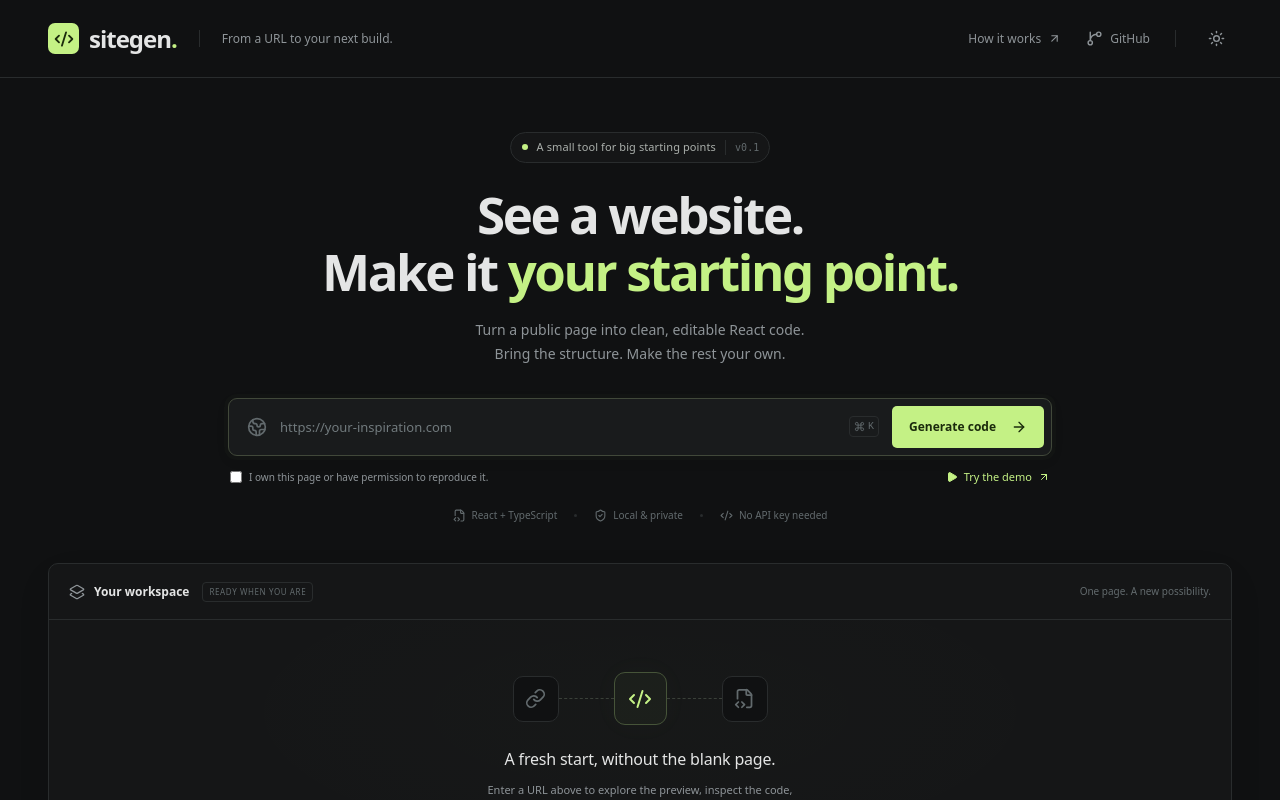
Scenario: important frontend interactions › validates URL input and permission before making a request
Click the button "Generate code".
click(968, 427)  # box 892,406 -> 1044,448
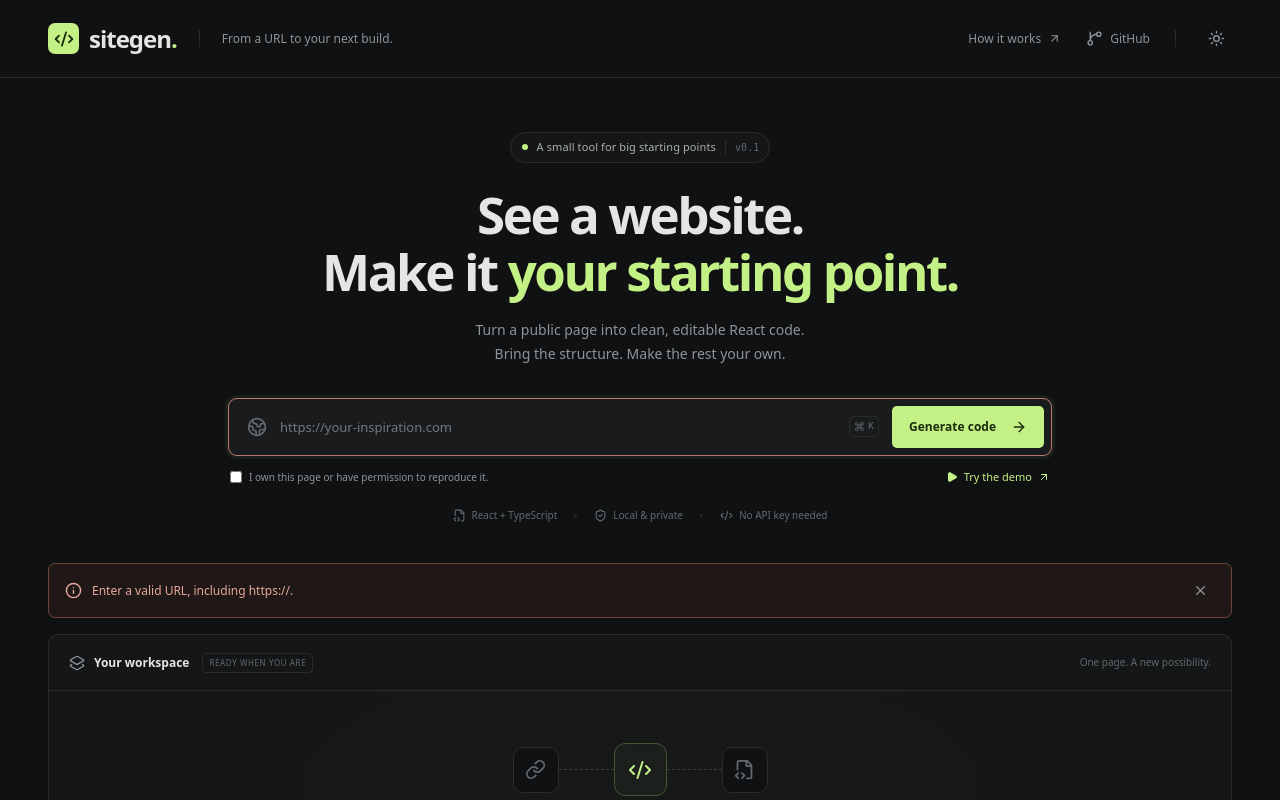
Check: the message shows "valid URL", box 92,582 -> 293,599
Type "https://example.com" into the field named "Website URL".
click(558, 427); type("https://example.com")  # box 280,409 -> 836,444
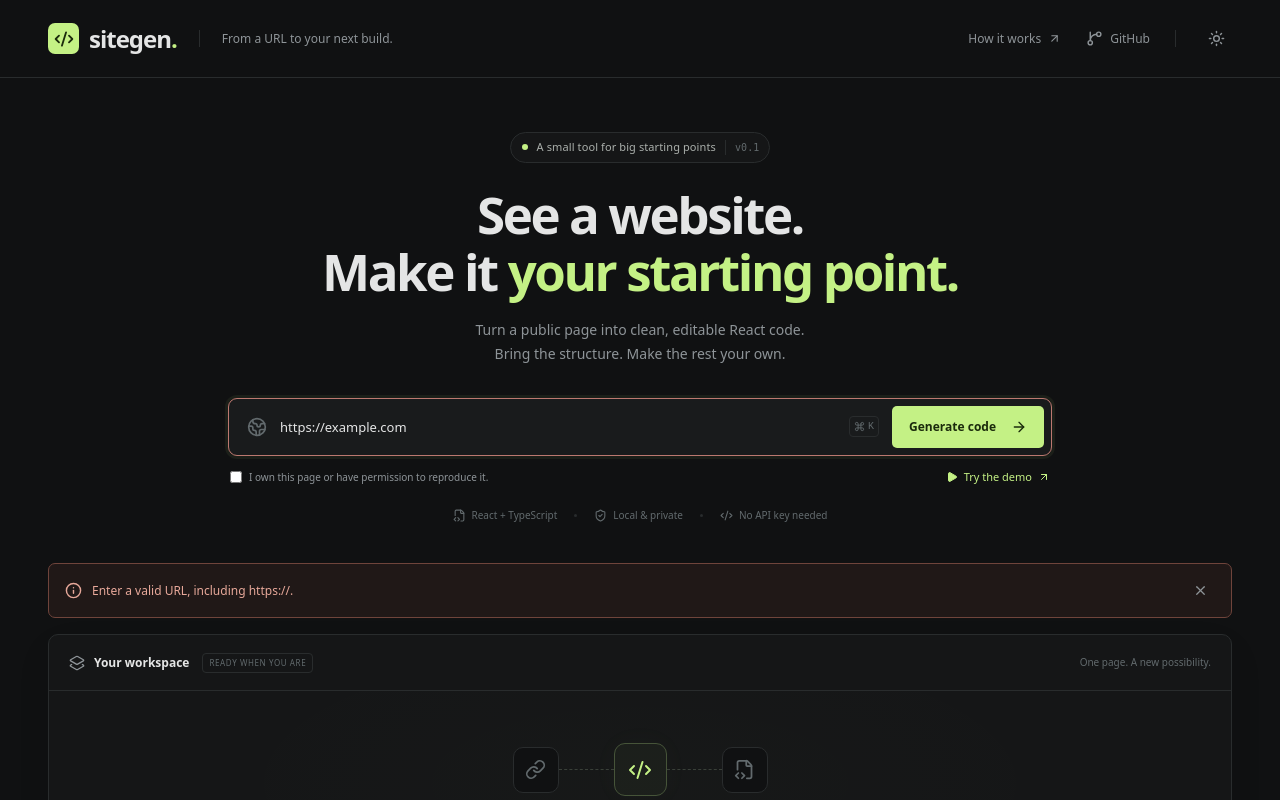
Click the button "Generate code".
click(968, 427)  # box 892,406 -> 1044,448
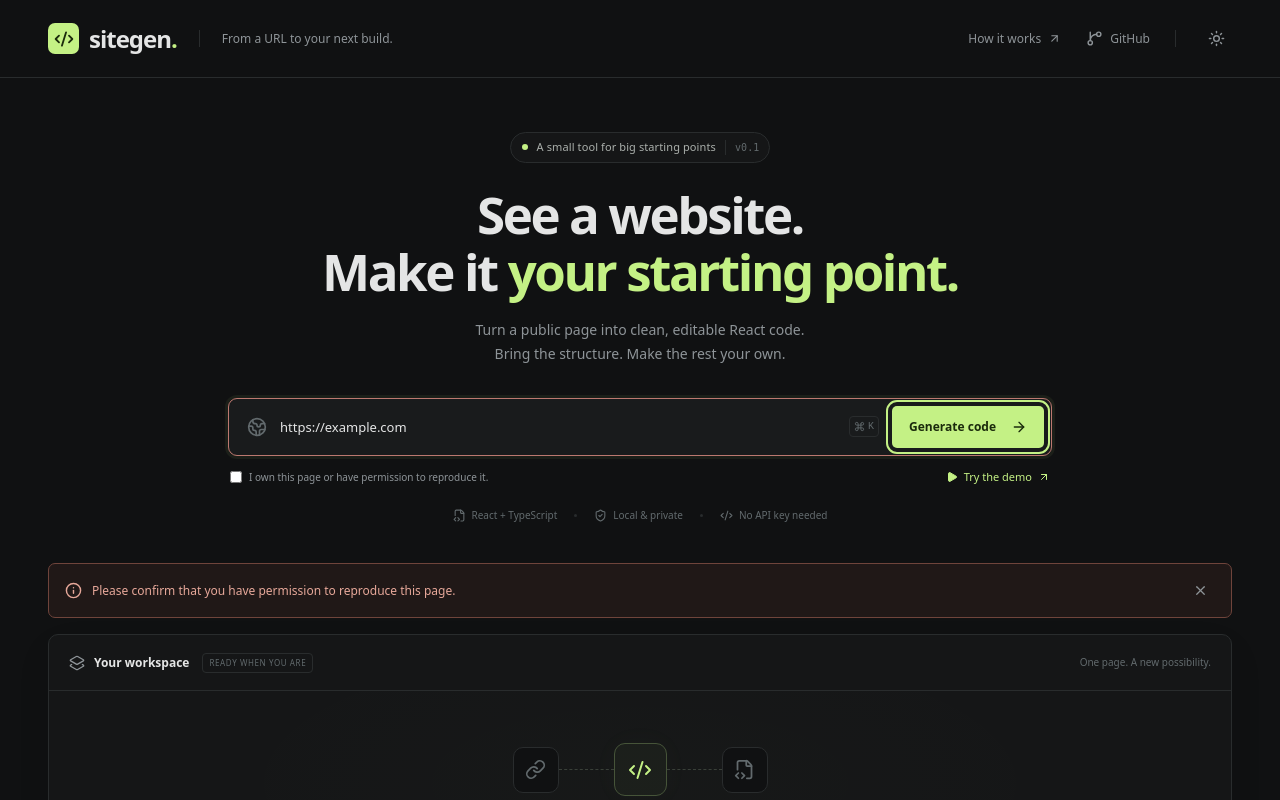
Check: the message shows "permission", box 92,582 -> 455,599
